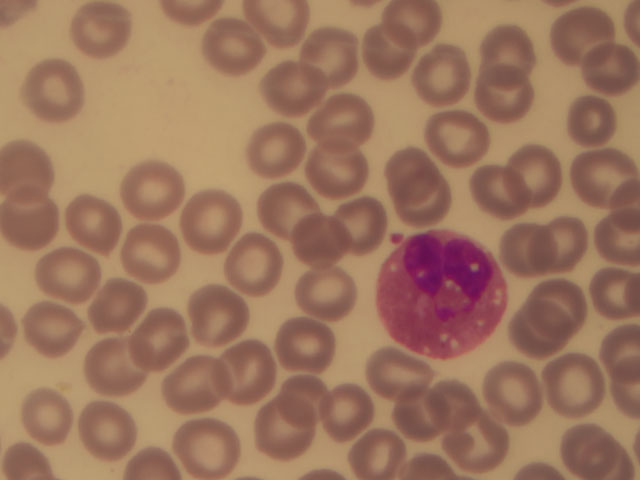RBC: (19, 56, 90, 127), (560, 415, 628, 480), (445, 410, 513, 475), (572, 141, 640, 206), (542, 353, 610, 417), (409, 41, 473, 108), (34, 241, 101, 304), (60, 190, 127, 253), (117, 156, 184, 219), (118, 220, 185, 283), (176, 189, 243, 252), (221, 234, 288, 297), (183, 283, 250, 346), (129, 306, 196, 369), (84, 275, 151, 338), (19, 299, 86, 362), (80, 333, 147, 396), (75, 396, 142, 459), (16, 382, 83, 445), (176, 415, 243, 478), (159, 353, 226, 416), (215, 339, 282, 402), (271, 311, 338, 374), (292, 257, 359, 320), (388, 149, 451, 216), (426, 109, 494, 165), (299, 22, 363, 80), (357, 22, 421, 80), (479, 20, 543, 78), (473, 62, 537, 120), (558, 90, 622, 148), (202, 18, 267, 73), (71, 1, 136, 56), (311, 88, 376, 143), (306, 138, 371, 193), (1, 131, 58, 193), (1, 189, 58, 251), (553, 4, 613, 59), (512, 145, 572, 200), (470, 161, 530, 216), (502, 216, 562, 271), (536, 276, 596, 331), (508, 303, 568, 358), (487, 361, 547, 416), (426, 370, 486, 425), (365, 345, 425, 400), (325, 379, 385, 434), (323, 377, 383, 432), (274, 372, 334, 427), (253, 402, 313, 457), (348, 425, 408, 480), (292, 216, 351, 271), (258, 183, 317, 238), (247, 121, 306, 176), (264, 59, 323, 114), (583, 42, 640, 94), (337, 193, 387, 248), (586, 269, 640, 317), (547, 214, 594, 267)
WBC: (372, 230, 506, 358)
